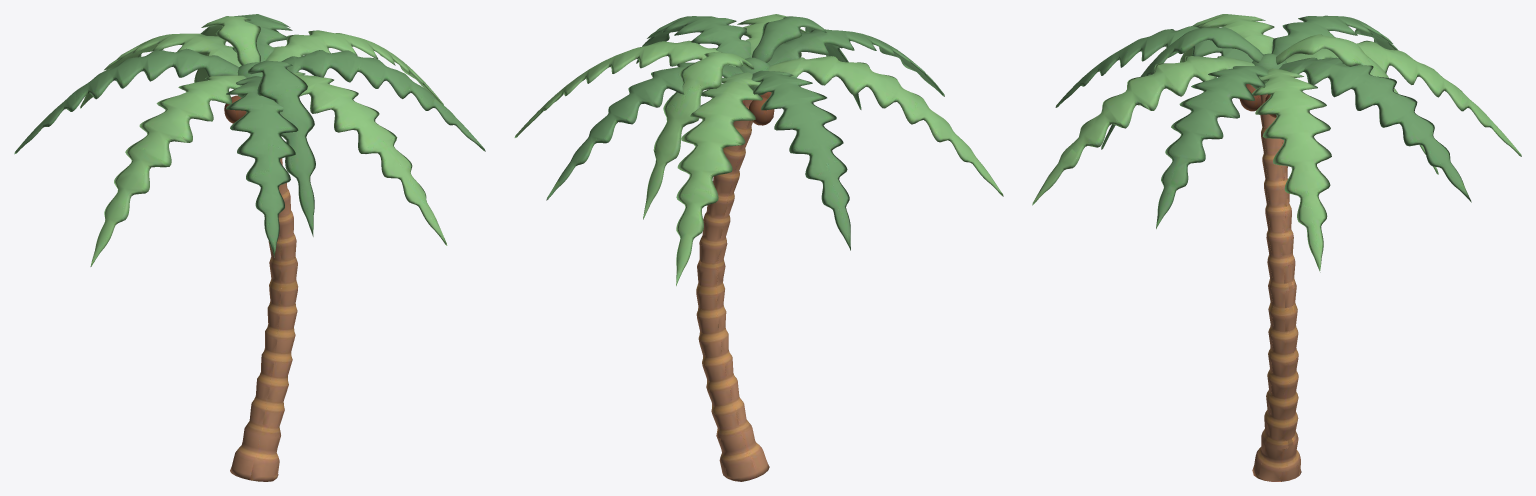
File: palm-tree-light.glb
3 views of the same model, side by side, from view 1: azimuth 30°, elevation 25°; view 2: azimuth 150°, elevation 25°; view 3: azimuth 270°, elevation 25° (orthographic).
Visible parts, largest first — view 1: palm-tree_body; view 2: palm-tree_body; view 3: palm-tree_body.
Part boxes in pixels (x1,y1,x2,y2): palm-tree_body: (14,14,485,481); palm-tree_body: (514,14,1003,481); palm-tree_body: (1032,14,1521,481).
Size of the model in its own units: 5.18 by 5.09 by 5.18.
1 material, 1 textured.
